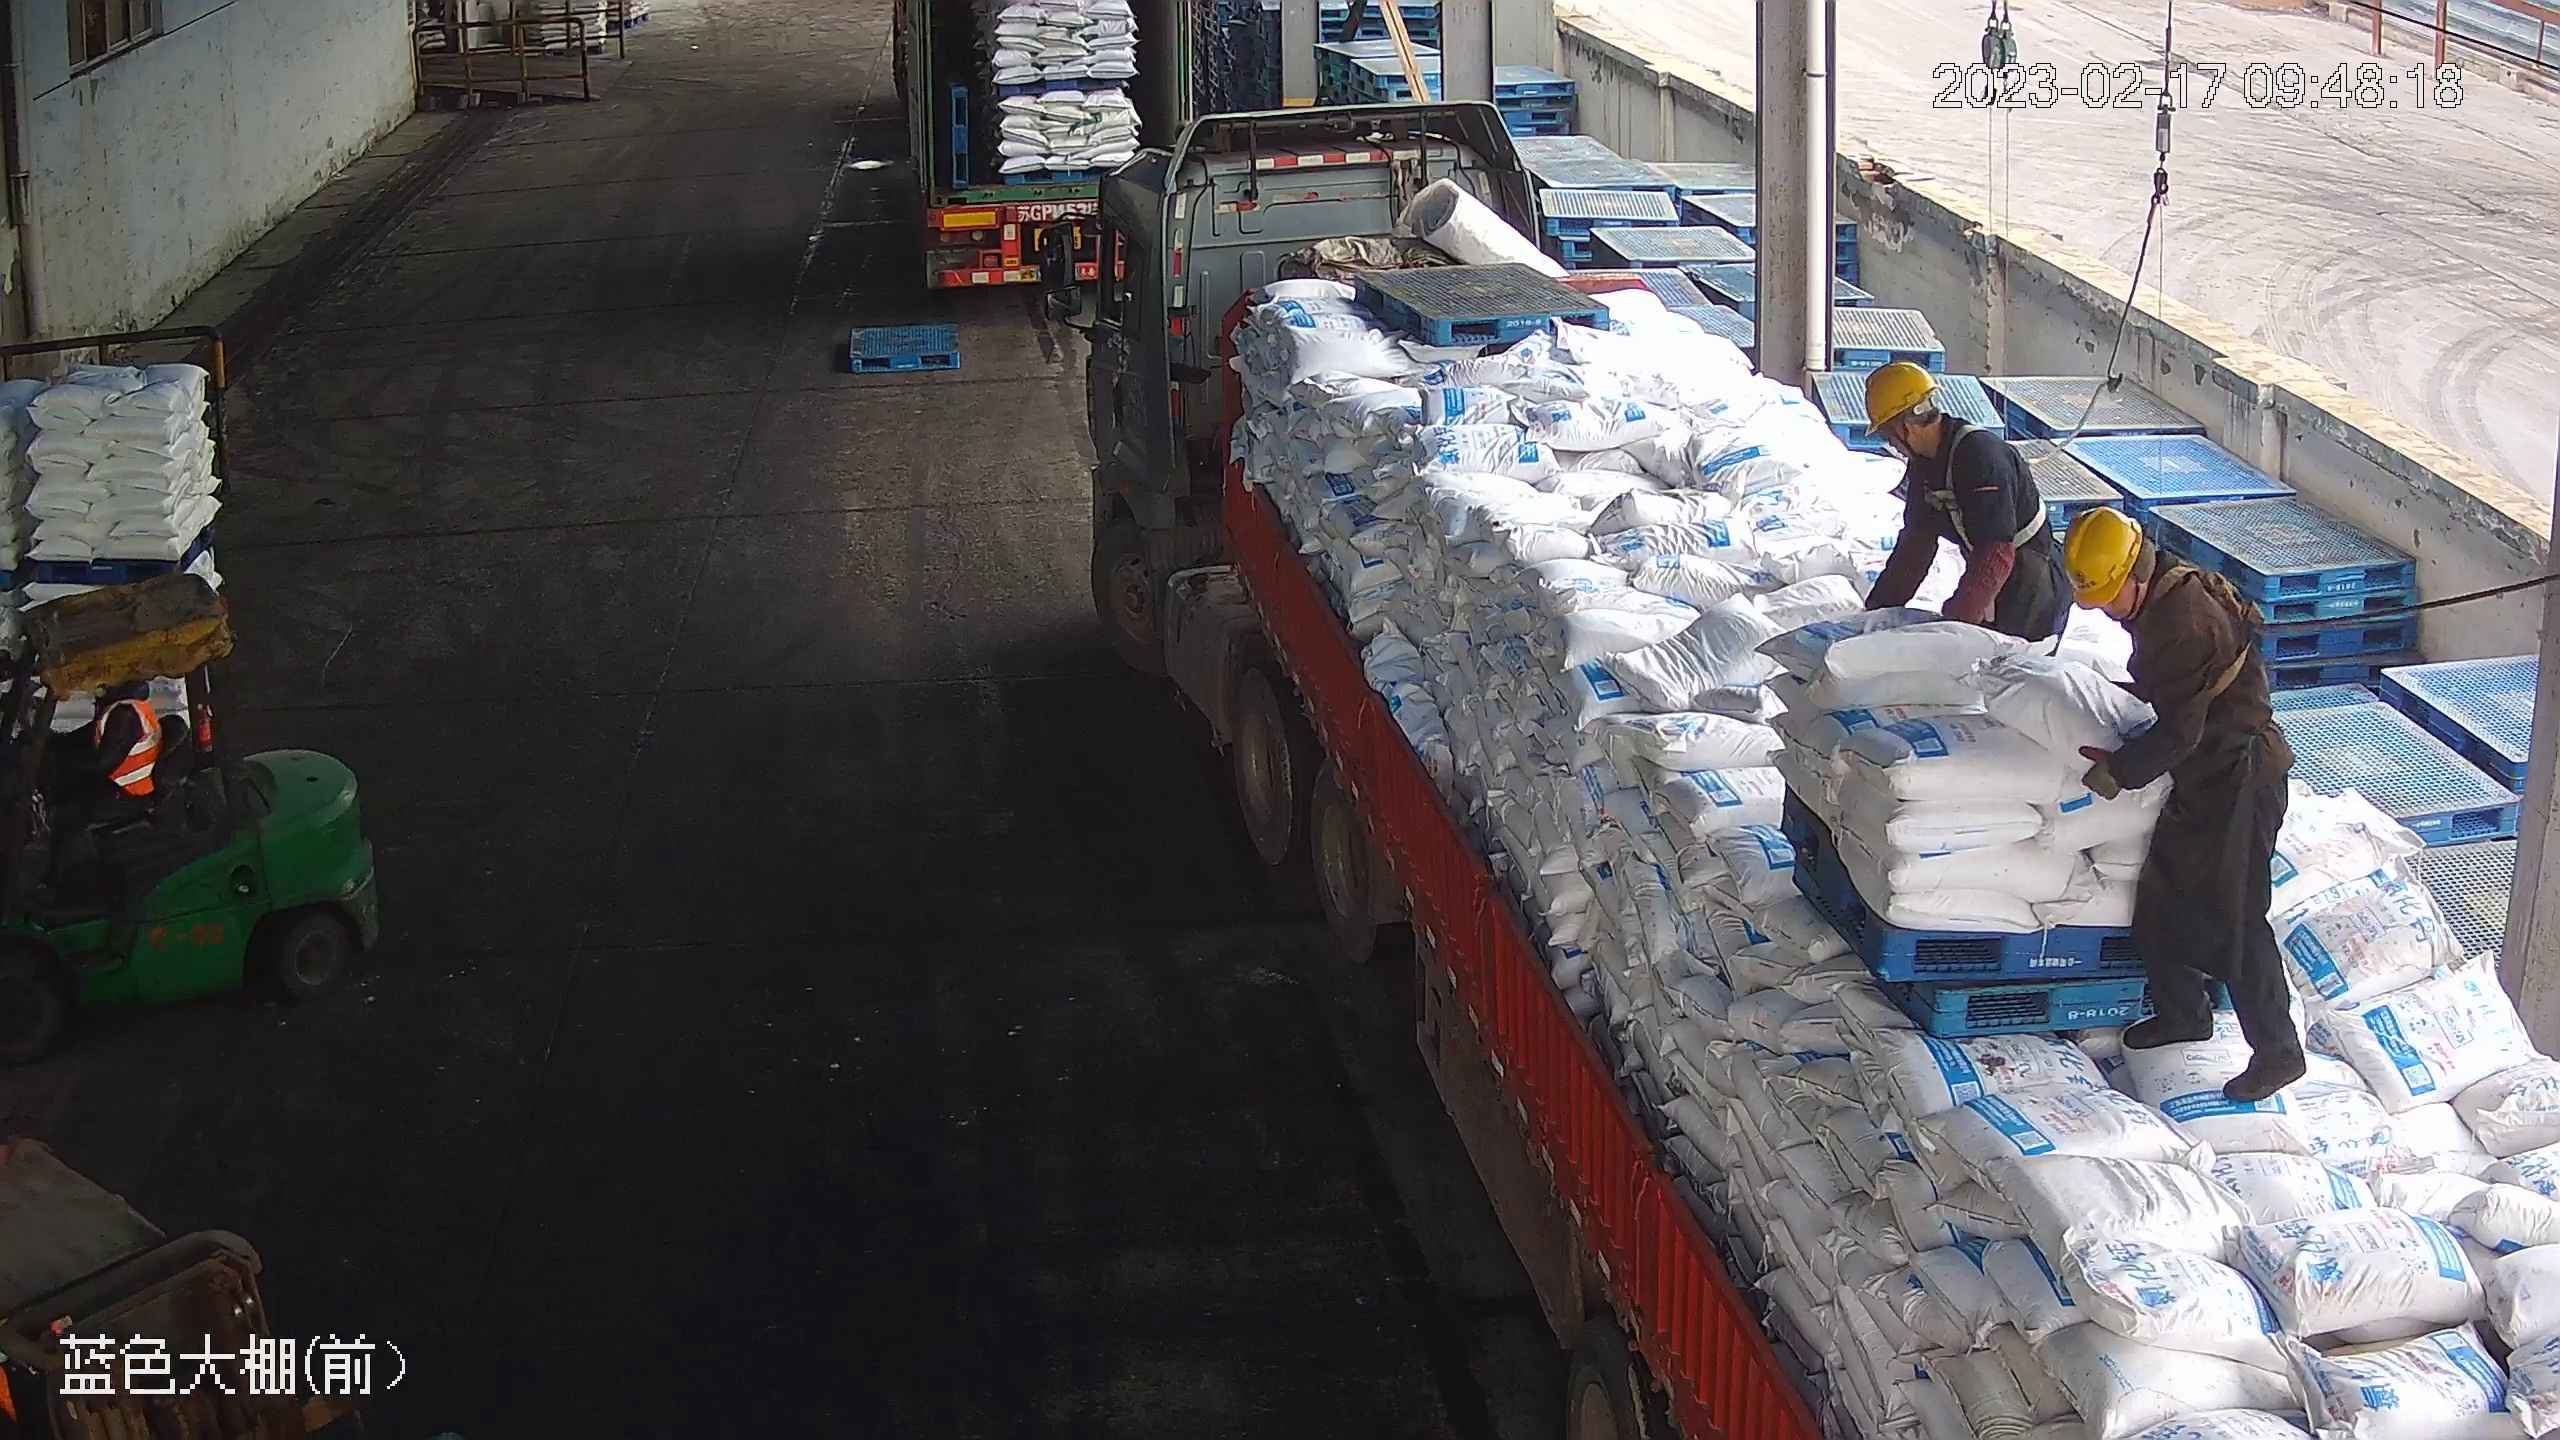belt: (2142, 562, 2265, 704), (1913, 419, 2046, 543)
head: (2061, 505, 2229, 659), (1862, 358, 2009, 491)
helmet: (2062, 504, 2144, 606), (1860, 358, 1940, 430)
people: (2059, 503, 2316, 1098), (1858, 353, 2071, 637), (3, 682, 165, 855)
truck: (1047, 127, 2556, 1440), (895, 3, 1204, 299)
